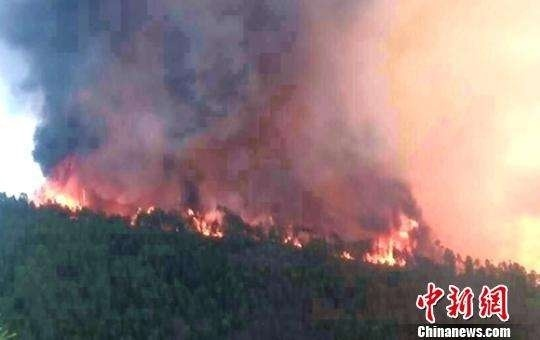fire: (362, 210, 422, 267), (36, 177, 83, 215), (183, 201, 227, 238)
